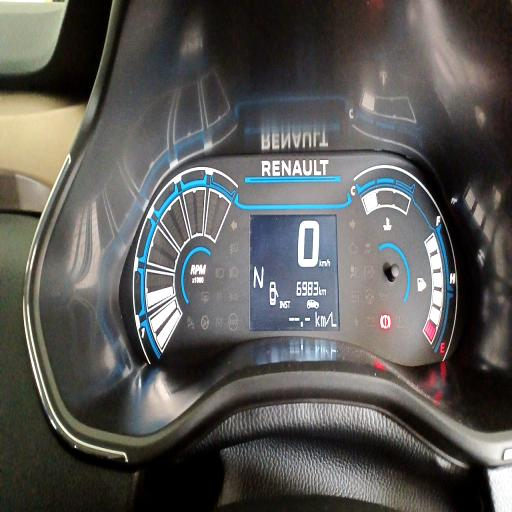brake_system_fault: (380, 314, 391, 330)
